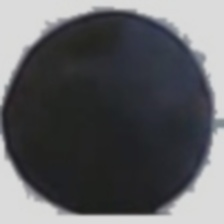grapes: (0, 18, 201, 209)
